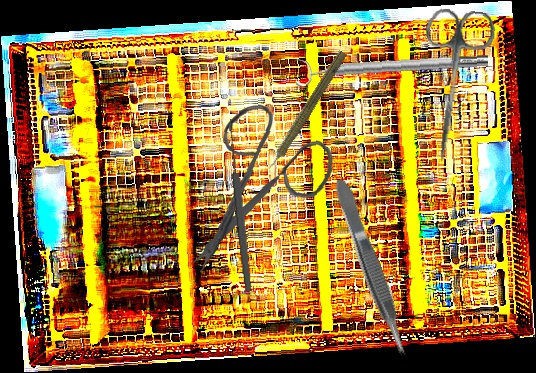Fixation Ring: (294, 45, 489, 89)
Handpiece: (257, 46, 350, 180)
Iris Scissors: (180, 100, 340, 277), (410, 5, 498, 166)
Surgical Spoon: (225, 122, 254, 292)
Tissue Forceps: (330, 175, 413, 360)
